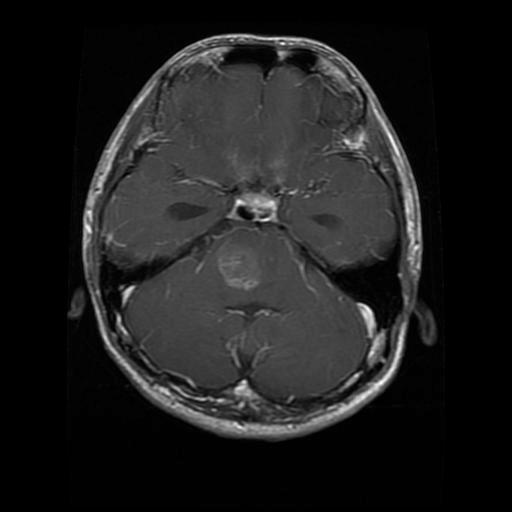Tumour-Glioma: (215, 231, 268, 292)
